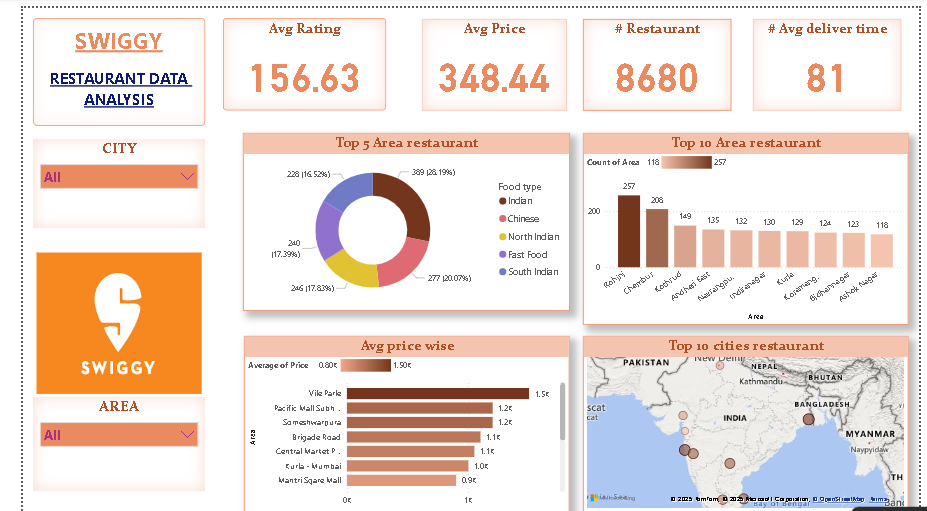

The dashboard page shown, as its layout file describes it:
{"tool":"powerbi","page":{"name":"Page 1","canvas":[1280,720],"ordinal":0},"visuals":[{"type":"card","title":"Avg Rating","fields":{"Values":["Avg(swiggy.Total ratings)"]},"box":[285.4,14.6,232.7,131.7],"z":0},{"type":"card","title":"Avg Price","fields":{"Values":["Avg(swiggy.Price)"]},"box":[569.4,15.1,206.6,131],"z":1000},{"type":"card","title":"# Restaurant","fields":{"Values":["Count(swiggy.ID)"]},"box":[799.6,15.1,211.7,131],"z":2000},{"type":"card","title":"# Avg deliver time","fields":{"Values":["Count(swiggy.Delivery time)"]},"box":[1043.1,15.1,211.7,131],"z":3000},{"type":"columnChart","title":"Top 10 Area restaurant","fields":{"Category":["swiggy.Area"],"Y":["CountNonNull(swiggy.ID)"]},"box":[799.6,178.1,465.3,273.8],"z":4000},{"type":"donutChart","title":"Top 5 Area restaurant","fields":{"Category":["swiggy.Food type"],"Y":["CountNonNull(swiggy.ID)"]},"box":[314.1,178.1,467,253.6],"z":5000},{"type":"map","title":"Top 10 cities restaurant","fields":{"Category":["swiggy.City"],"Size":["CountNonNull(swiggy.ID)"]},"box":[799.6,468.7,465.3,252],"z":6000},{"type":"clusteredBarChart","title":"Avg price wise","fields":{"Category":["swiggy.Area"],"Y":["Avg(swiggy.Price)"]},"box":[315.8,468.7,465.3,252],"z":7000},{"type":"textbox","box":[14.6,14.6,245.9,153.7],"z":8000},{"type":"slicer","title":"CITY","fields":{"Values":["swiggy.City"]},"box":[14.6,187.3,245.9,127.3],"z":9000},{"type":"slicer","title":"AREA","fields":{"Values":["swiggy.Area"]},"box":[14.6,556.1,245.9,134.6],"z":10000},{"type":"image","box":[14.6,343.9,245.9,212.2],"z":11000}]}

Visuals, with their boxes in screenshot pixels (x1, y1, x2, y2), scaled from the page's 1280x720 canvas onto the 927x511 screenshot:
"Avg Rating" card: (x1=207, y1=10, x2=375, y2=104)
"Avg Price" card: (x1=412, y1=11, x2=562, y2=104)
"# Restaurant" card: (x1=579, y1=11, x2=732, y2=104)
"# Avg deliver time" card: (x1=755, y1=11, x2=909, y2=104)
"Top 10 Area restaurant" columnChart: (x1=579, y1=126, x2=916, y2=321)
"Top 5 Area restaurant" donutChart: (x1=227, y1=126, x2=566, y2=306)
"Top 10 cities restaurant" map: (x1=579, y1=333, x2=916, y2=510)
"Avg price wise" clusteredBarChart: (x1=229, y1=333, x2=566, y2=510)
textbox: (x1=11, y1=10, x2=189, y2=119)
"CITY" slicer: (x1=11, y1=133, x2=189, y2=223)
"AREA" slicer: (x1=11, y1=395, x2=189, y2=490)
image: (x1=11, y1=244, x2=189, y2=395)
